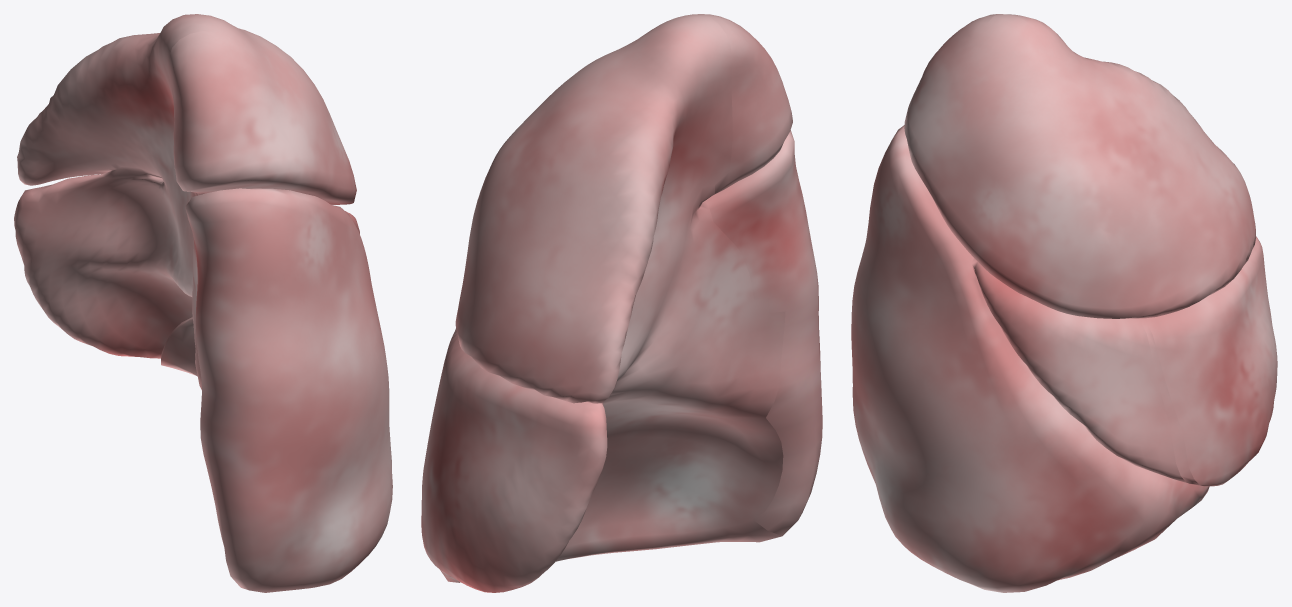
Rendered from lungs_4_SN.fbx.
The picture shows the model from 3 angles, left to right: view 1: azimuth 30°, elevation 25°; view 2: azimuth 150°, elevation 25°; view 3: azimuth 270°, elevation 25°; orthographic projection. The views are drawn at different scales.
Visible parts, largest first — view 1: Polmone_SN; view 2: Polmone_SN; view 3: Polmone_SN.
Part boxes in pixels (left/top/right/bottom): Polmone_SN: left=14, top=14, right=392, bottom=592; Polmone_SN: left=421, top=14, right=822, bottom=592; Polmone_SN: left=851, top=14, right=1277, bottom=592.
Bounding box in the file's own units: 9.88 × 21.55 × 16.52.
